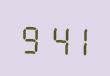four: (43, 19, 66, 56)
nine: (18, 18, 41, 55)
one: (67, 20, 90, 57)
